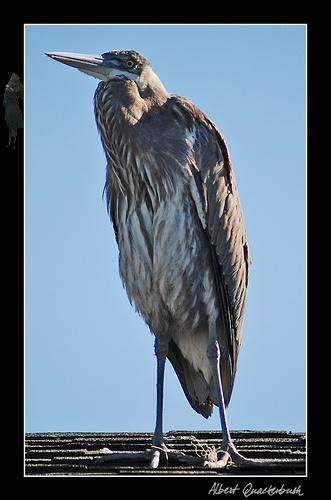tampered: (4, 74, 23, 149)
